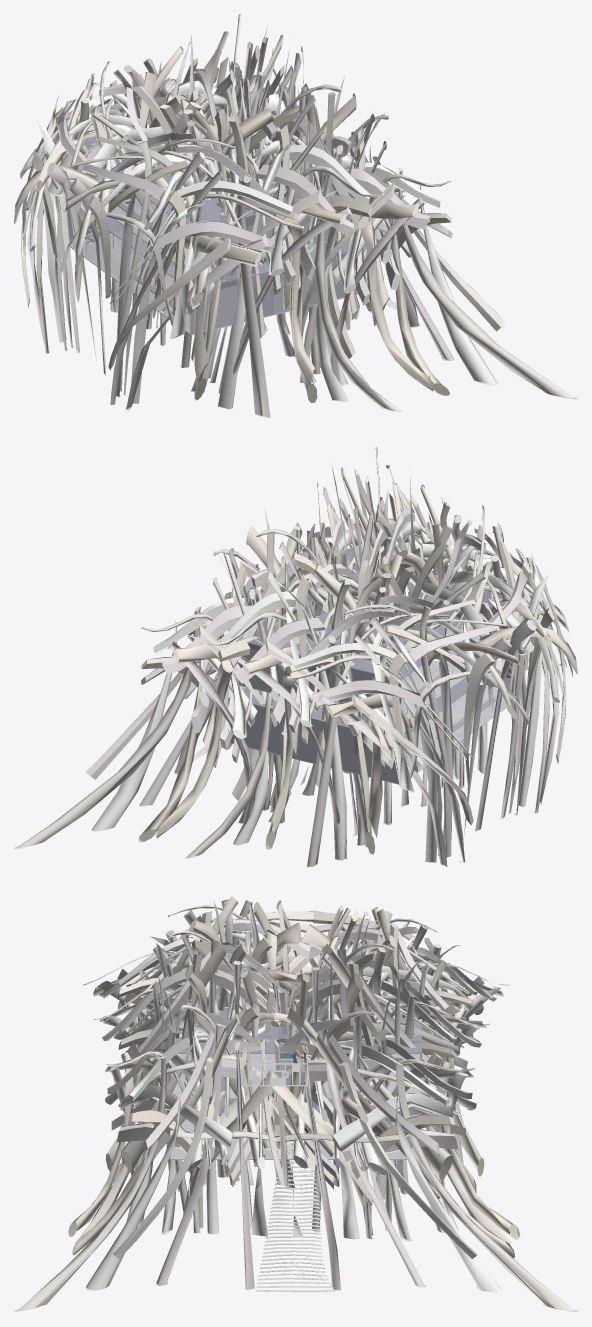
The model's file is UMMUSE.glb.
3 views of the same model, one above another, from view 1: azimuth 30°, elevation 25°; view 2: azimuth 150°, elevation 25°; view 3: azimuth 270°, elevation 25° (orthographic).
Visible parts, largest first — view 1: Layer 05, Layer 04, Layer 02, Layer 03, MIKADO, KOYU CAM, ZEMIN (×2), ACIK CAM; view 2: Layer 04, Layer 05, Layer 03, Layer 02, KOYU CAM, MIKADO, ZEMIN (×2), ACIK CAM; view 3: Layer 03, Layer 02, Layer 05, Layer 04, MIKADO, MERDIVEN+KORKULUK, ACIK CAM, ZEMIN, KOYU CAM.
Part boxes in pixels (<box>): Layer 05: <box>21,37,577,417</box>; Layer 04: <box>15,26,498,409</box>; Layer 02: <box>14,35,451,403</box>; Layer 03: <box>27,31,454,411</box>; MIKADO: <box>21,14,451,325</box>; KOYU CAM: <box>67,119,363,334</box>; ZEMIN (×2): <box>71,176,357,335</box>; ACIK CAM: <box>67,166,190,333</box>; Layer 04: <box>91,465,572,862</box>; Layer 05: <box>14,470,566,867</box>; Layer 03: <box>139,465,559,866</box>; Layer 02: <box>138,467,577,854</box>; KOYU CAM: <box>228,547,525,783</box>; MIKADO: <box>141,447,566,778</box>; ZEMIN (×2): <box>229,628,515,784</box>; ACIK CAM: <box>401,592,523,771</box>; Layer 03: <box>97,899,500,1290</box>; Layer 02: <box>68,896,520,1258</box>; Layer 05: <box>14,900,577,1312</box>; Layer 04: <box>86,902,501,1292</box>; MIKADO: <box>83,905,509,1171</box>; MERDIVEN+KORKULUK: <box>241,1063,335,1291</box>; ACIK CAM: <box>171,1054,420,1158</box>; ZEMIN: <box>170,1054,421,1159</box>; KOYU CAM: <box>170,968,421,1158</box>.
Size of the model in its own units: 54.97 by 40.23 by 67.09.
Materials: 45 (33 with a texture image).
